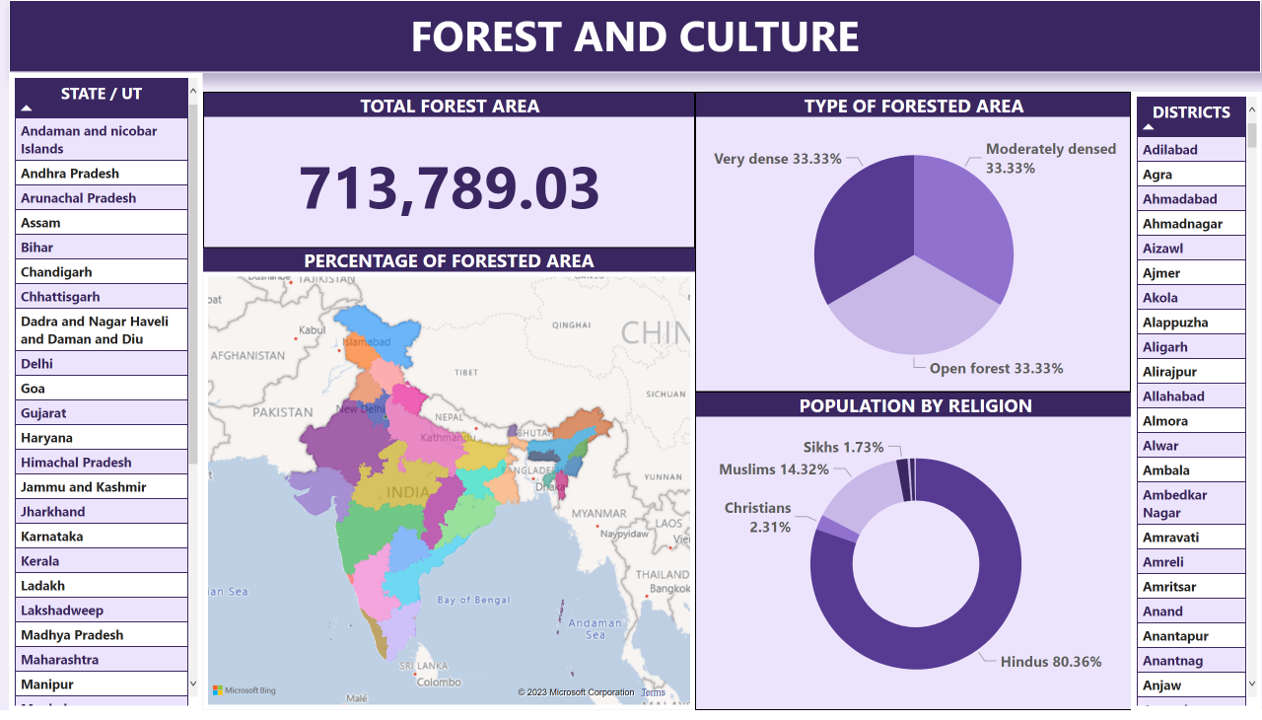

What the dashboard file says about the page in this screenshot:
{"tool":"powerbi","page":{"name":"Forest & culture","canvas":[1280,720],"ordinal":3},"visuals":[{"type":"textbox","box":[9.4,0,1269.9,73.7],"z":0},{"type":"filledMap","title":"PERCENTAGE OF FORESTED AREA","fields":{"Category":["forest density.State"],"Series":["forest density.% forested area"]},"box":[206,251.3,498.9,468.7],"z":1000},{"type":"tableEx","fields":{"Values":["forest density.State"]},"box":[9.4,73.7,196.5,646.3],"z":2000},{"type":"card","title":"TOTAL FOREST AREA","fields":{"Values":["Sum(forest density.total forest area)"]},"box":[206,92.6,498.9,158.7],"z":3000},{"type":"pieChart","title":"TYPE OF FORESTED AREA","fields":{"Y":["CountNonNull(forest density.moderately dense)","CountNonNull(forest density.open forest)","CountNonNull(forest density.very dense)"]},"box":[704.9,92.6,442.2,304.3],"z":4000},{"type":"donutChart","title":"POPULATION BY RELIGION","fields":{"Y":["Sum(india-districts-census-2011.Hindus)","Sum(india-districts-census-2011.Christians)","Sum(india-districts-census-2011.Muslims)","Sum(india-districts-census-2011.Sikhs)","Sum(india-districts-census-2011.Jains)","Sum(india-districts-census-2011.Others_Religions)","Sum(india-districts-census-2011.Religion_Not_Stated)"]},"box":[704.9,396.9,446,323.2],"z":5000},{"type":"tableEx","fields":{"Values":["india-districts-census-2011.District name"]},"box":[1147.1,92.6,132.3,627.4],"z":6000}]}

Visuals, with their boxes in screenshot pixels (x1, y1, x2, y2), scaled from the page's 1280x720 canvas onto the 1262x720 screenshot:
textbox: bbox=(9, 0, 1261, 74)
"PERCENTAGE OF FORESTED AREA" filledMap: bbox=(203, 251, 695, 719)
tableEx - forest density.State: bbox=(9, 74, 203, 719)
"TOTAL FOREST AREA" card: bbox=(203, 93, 695, 251)
"TYPE OF FORESTED AREA" pieChart: bbox=(695, 93, 1131, 397)
"POPULATION BY RELIGION" donutChart: bbox=(695, 397, 1135, 719)
tableEx - india-districts-census-2011.District name: bbox=(1131, 93, 1261, 719)
